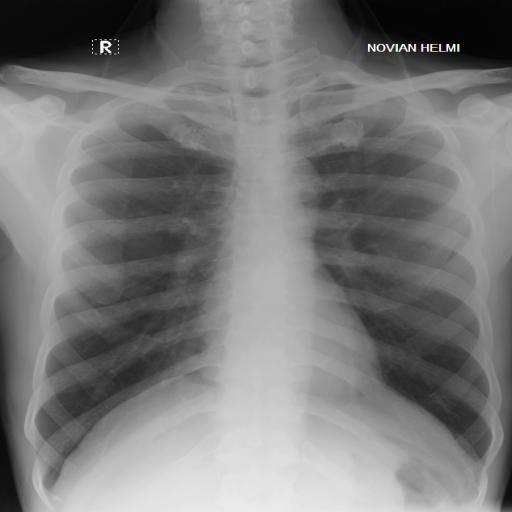normal: (24, 52, 505, 495)
